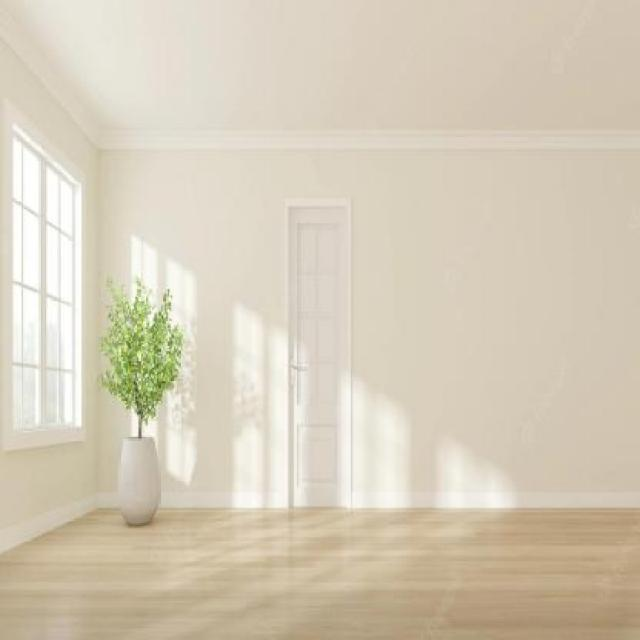Floor: (0, 506, 640, 639)
